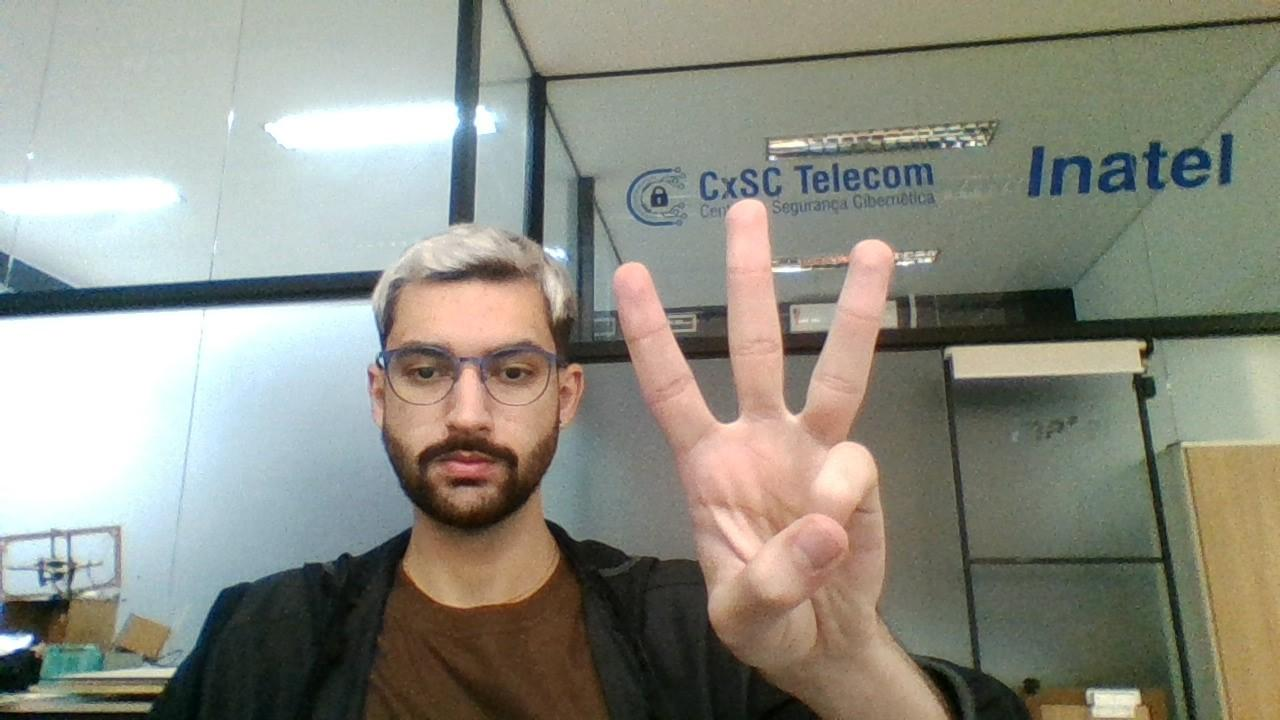W: (598, 198, 902, 668)
